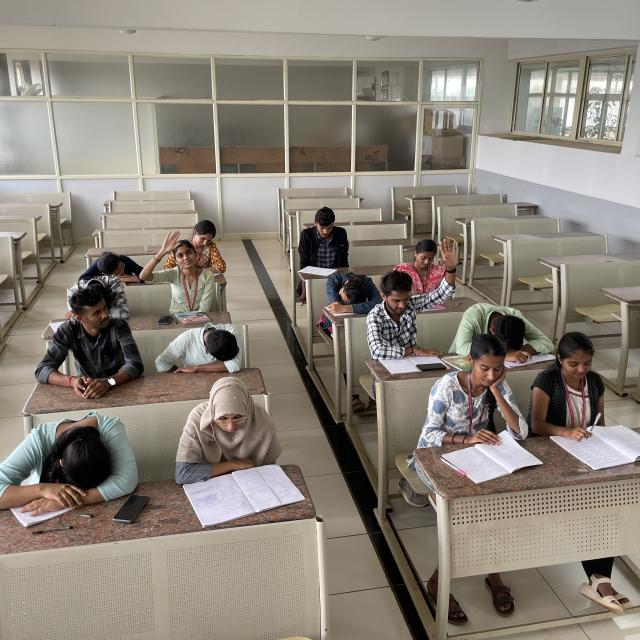Hand Rising: (370, 232, 457, 346), (143, 225, 210, 317)
Reading: (168, 372, 295, 503), (426, 346, 524, 467), (287, 195, 353, 280)
Sleeping: (0, 410, 129, 533), (456, 298, 556, 370), (155, 322, 253, 379), (52, 272, 140, 318), (319, 259, 384, 318), (62, 245, 144, 290)
Using Phone: (36, 293, 151, 406)
Writing: (541, 329, 639, 458)
